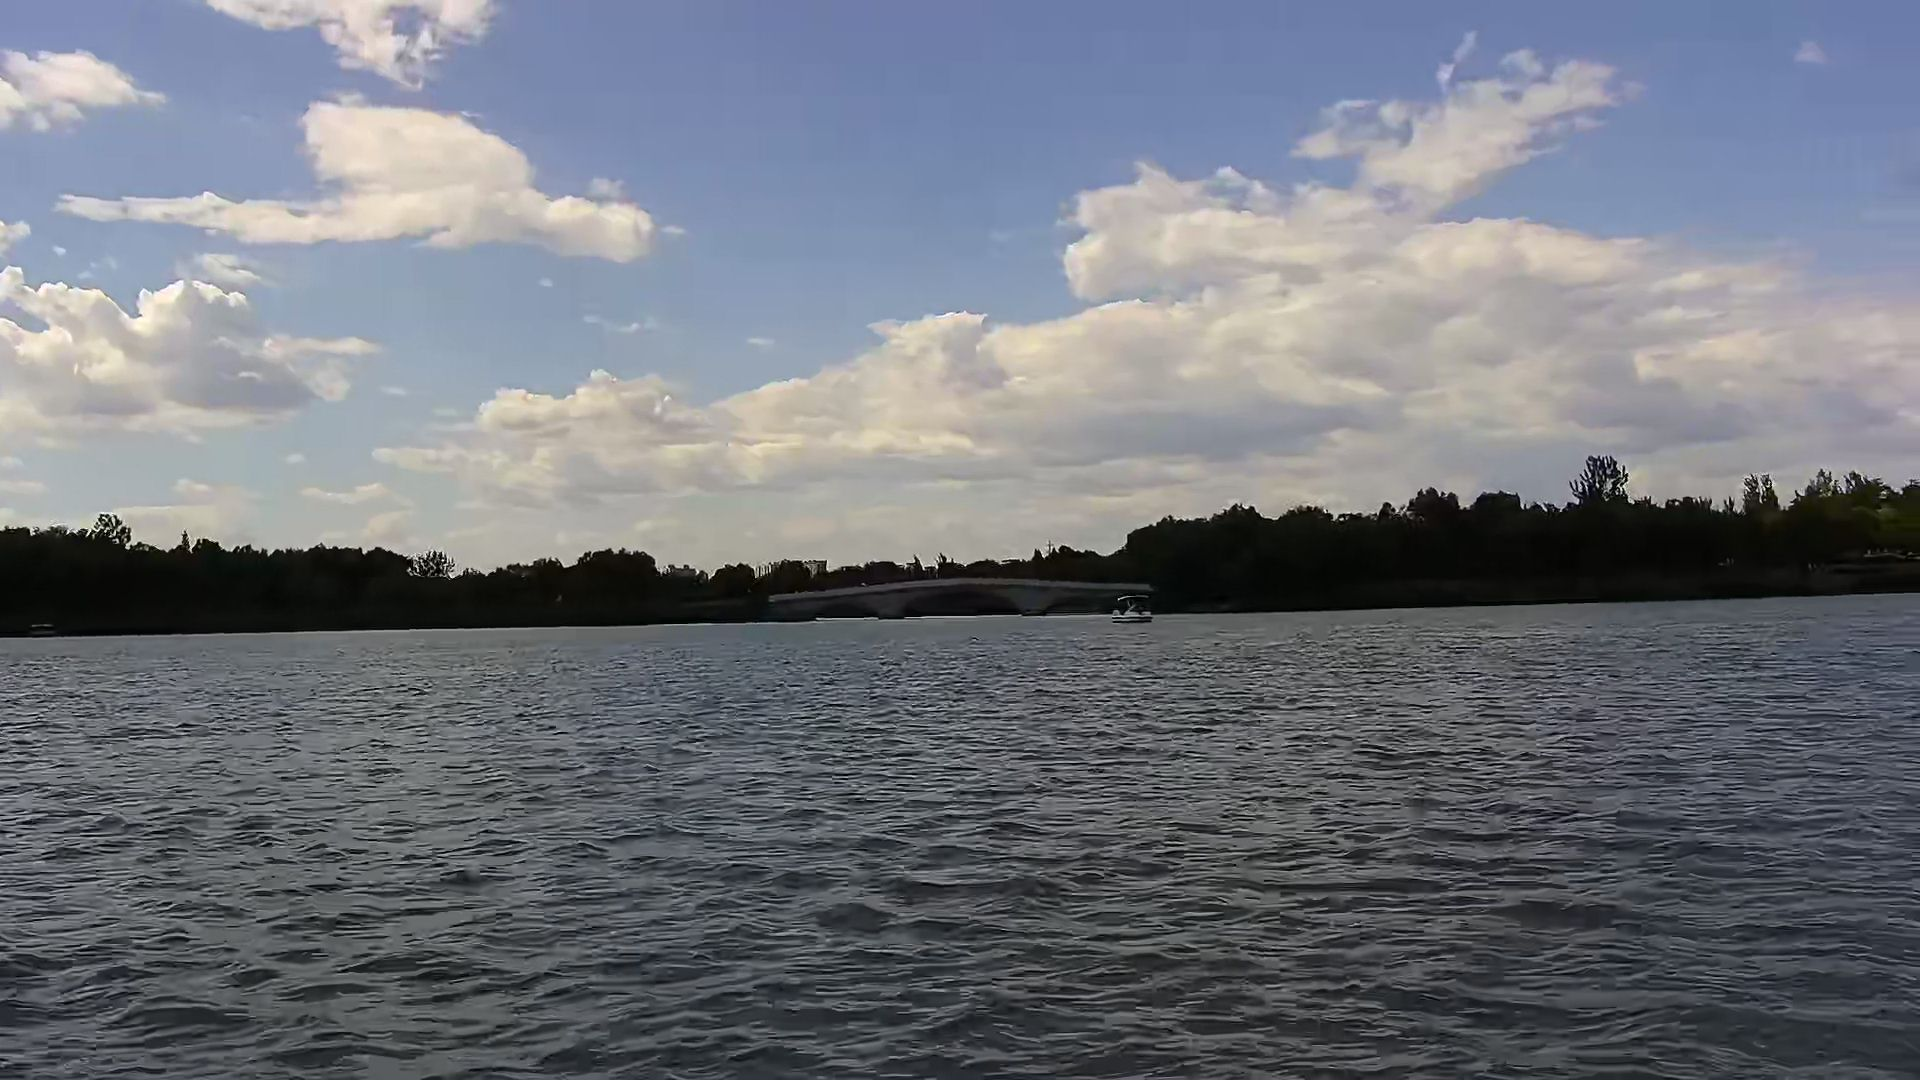boat: (1112, 597, 1155, 625)
bridge: (764, 578, 1150, 618)
